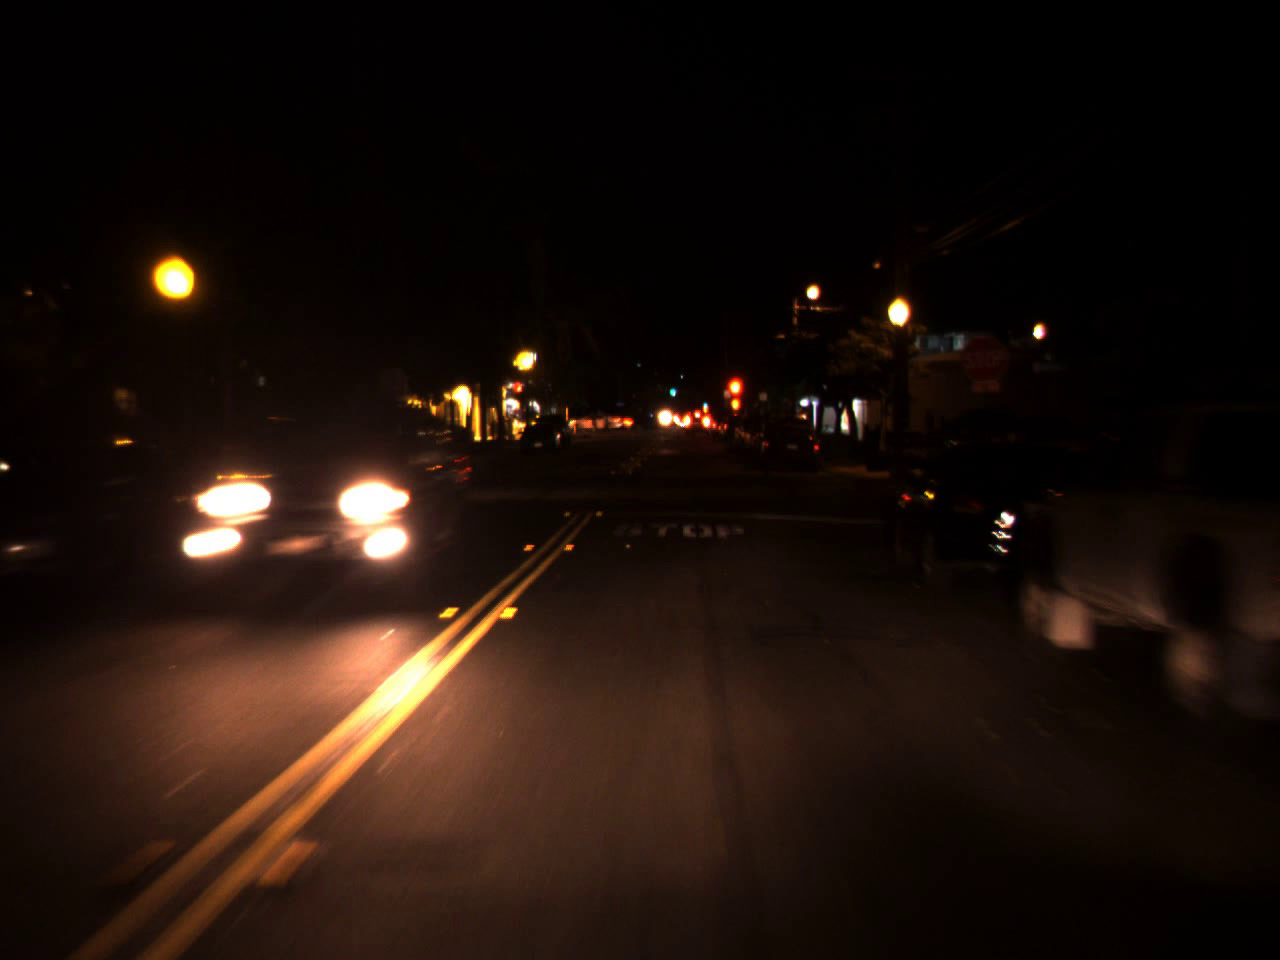go: (668, 382, 677, 397)
stop: (727, 378, 745, 410), (509, 379, 524, 406)
